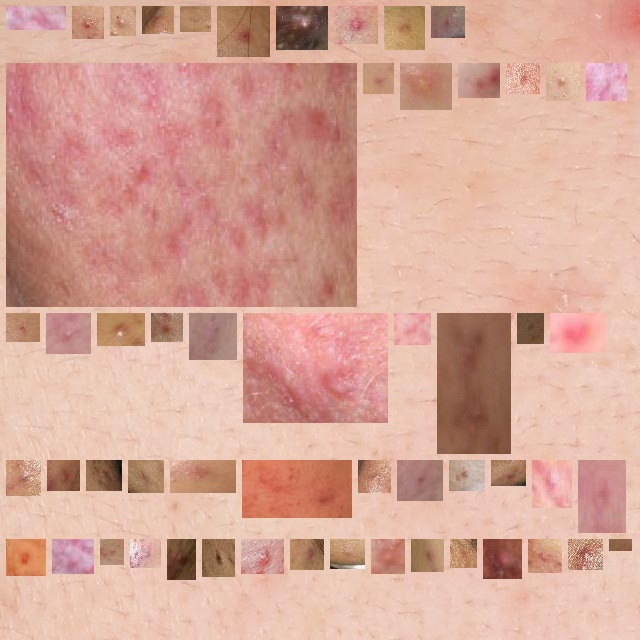papule: (14, 68, 349, 299), (251, 321, 380, 415), (445, 321, 503, 446), (250, 468, 344, 510), (586, 468, 618, 525), (225, 14, 262, 49), (408, 71, 444, 102), (284, 14, 320, 42), (197, 321, 229, 352), (558, 321, 598, 345), (178, 468, 228, 485), (540, 468, 564, 500), (405, 468, 435, 493), (54, 321, 83, 346), (392, 14, 417, 42), (14, 14, 58, 29), (342, 14, 370, 36), (491, 547, 514, 571), (594, 71, 619, 93), (105, 321, 137, 338), (249, 547, 276, 566), (14, 547, 38, 568), (466, 71, 492, 90), (60, 547, 86, 566), (554, 71, 572, 93), (14, 468, 33, 488), (210, 547, 227, 569), (379, 547, 397, 566), (136, 468, 156, 485), (402, 321, 423, 337), (175, 547, 188, 572), (536, 547, 554, 565), (94, 468, 114, 483), (457, 468, 477, 483), (366, 468, 383, 485), (419, 547, 436, 564), (439, 14, 457, 30), (576, 547, 595, 562), (80, 14, 96, 31), (514, 71, 532, 86), (298, 547, 316, 562), (338, 547, 357, 561), (55, 468, 72, 483), (14, 321, 32, 334), (499, 468, 518, 480), (371, 71, 386, 86), (159, 321, 175, 334), (138, 547, 153, 560), (150, 14, 166, 26), (525, 321, 536, 336), (188, 14, 203, 24), (458, 547, 469, 560), (118, 14, 128, 28), (108, 547, 116, 557)
